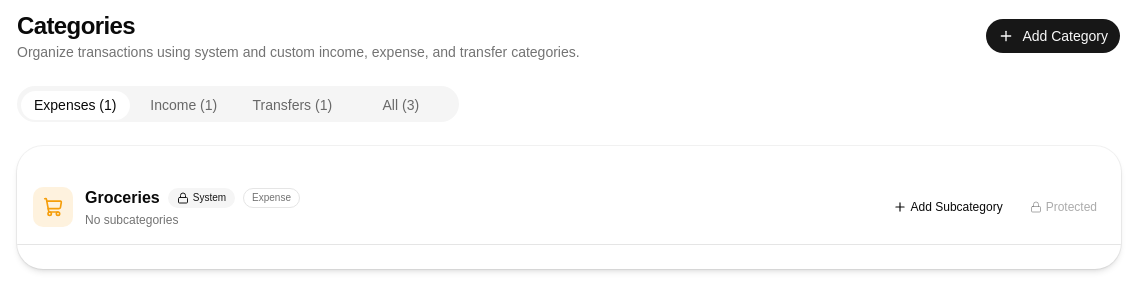
Test case: CategoriesPage › 11. filters categories by income, expense, and transfer tabs
Expected: the text "Groceries" is shown, [85,186,160,210]
// Income tab
Click the tab with test id "tab-income" at (184, 105), box [130,90,238,120]
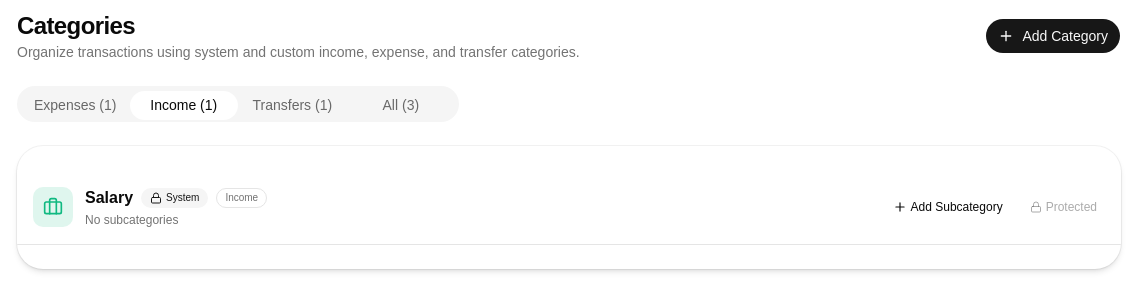
Expected: the text "Salary" is shown, [85,186,133,210]
Expected: the text "Groceries" is gone
// Transfers tab
Click the tab with test id "tab-transfer" at (292, 105), box [238,90,346,120]
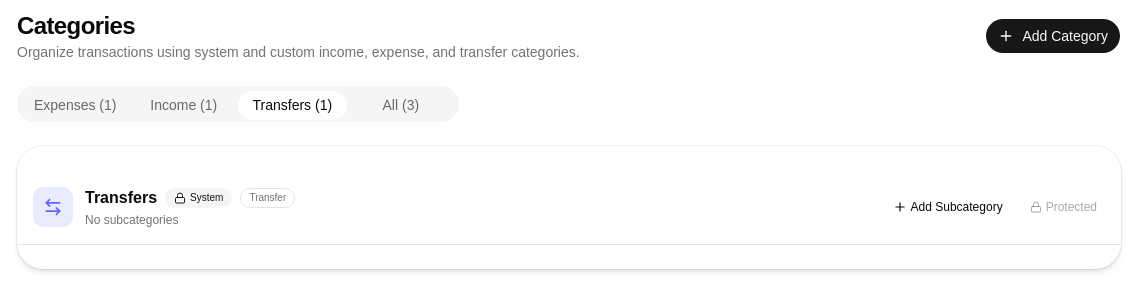
Expected: the text "Transfers" is shown, [85,186,157,210]
Expected: the text "Salary" is gone
